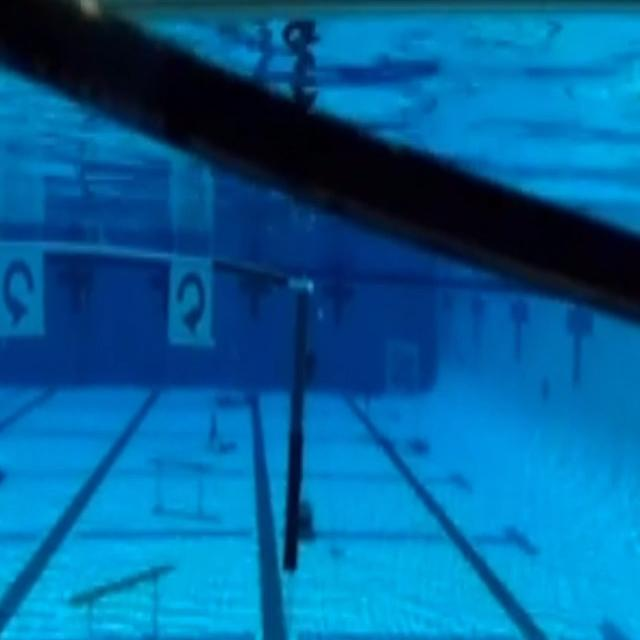Gate: (1, 226, 323, 608)
